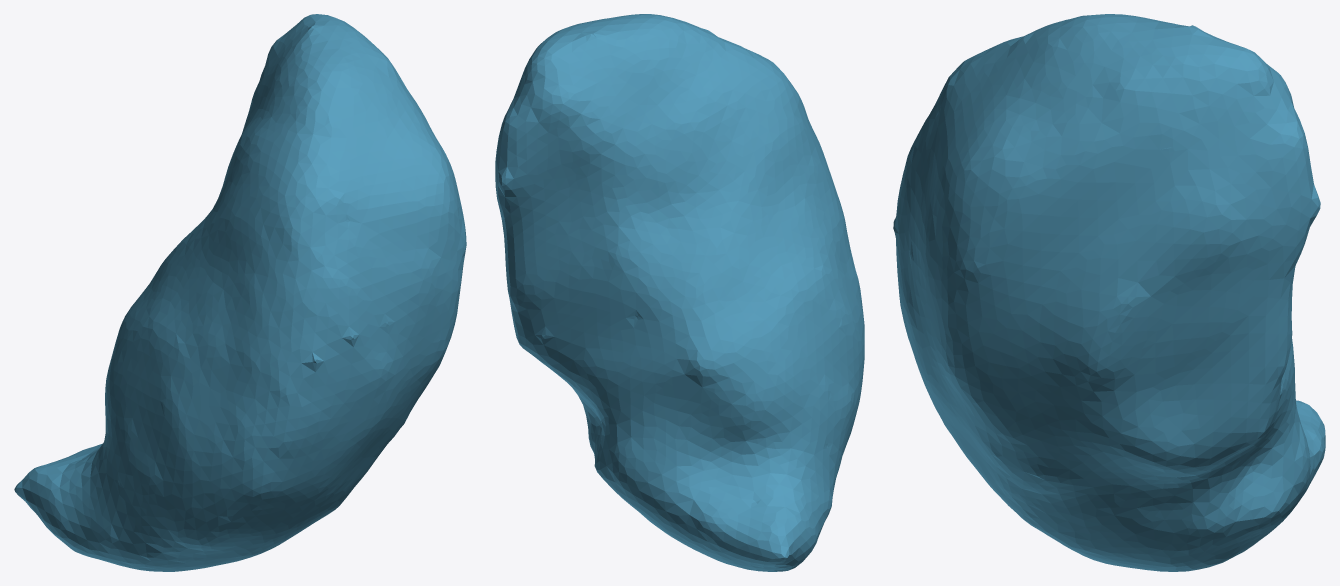
The model's file is Left_Thalamus.glb.
The picture shows the model from 3 angles, left to right: view 1: azimuth 30°, elevation 25°; view 2: azimuth 150°, elevation 25°; view 3: azimuth 270°, elevation 25°; orthographic projection. The views are drawn at different scales.
Visible parts, largest first — view 1: world; view 2: world; view 3: world.
Boxes of the visible parts, x1,y1,x2,y2 form: world: (14,14,466,571); world: (495,14,864,571); world: (893,14,1325,571).
Size of the model in its own units: 25.82 by 35.89 by 22.91.
